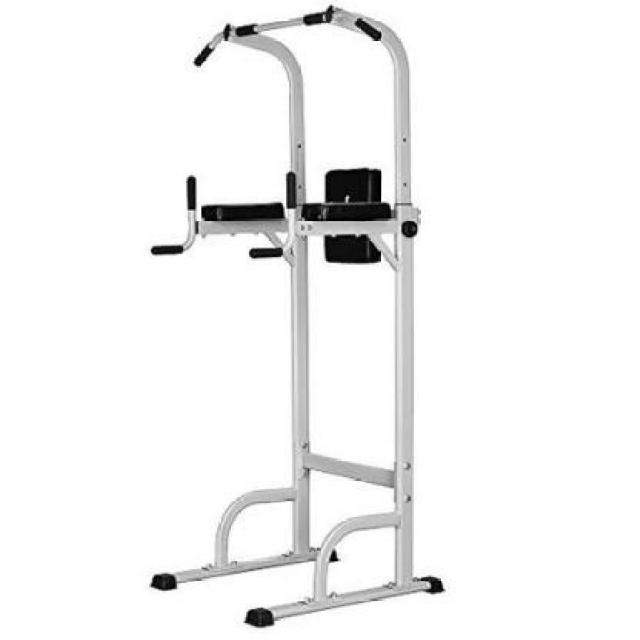chinning dipping: (152, 5, 446, 629)
